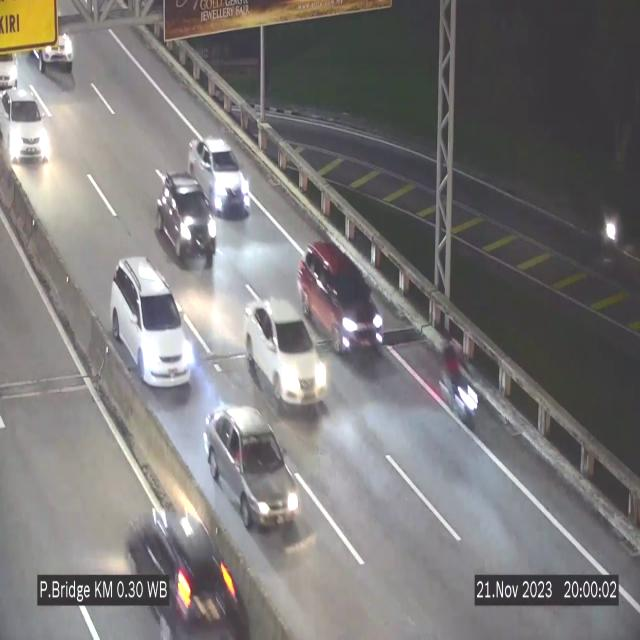Car: (124, 482, 239, 640), (203, 408, 301, 538), (111, 258, 196, 387), (298, 235, 386, 359), (244, 300, 328, 412), (156, 174, 216, 268), (187, 136, 251, 215), (0, 86, 51, 176), (22, 0, 82, 75), (0, 36, 19, 100)
Motorcycle: (437, 326, 479, 430), (581, 196, 623, 278)
